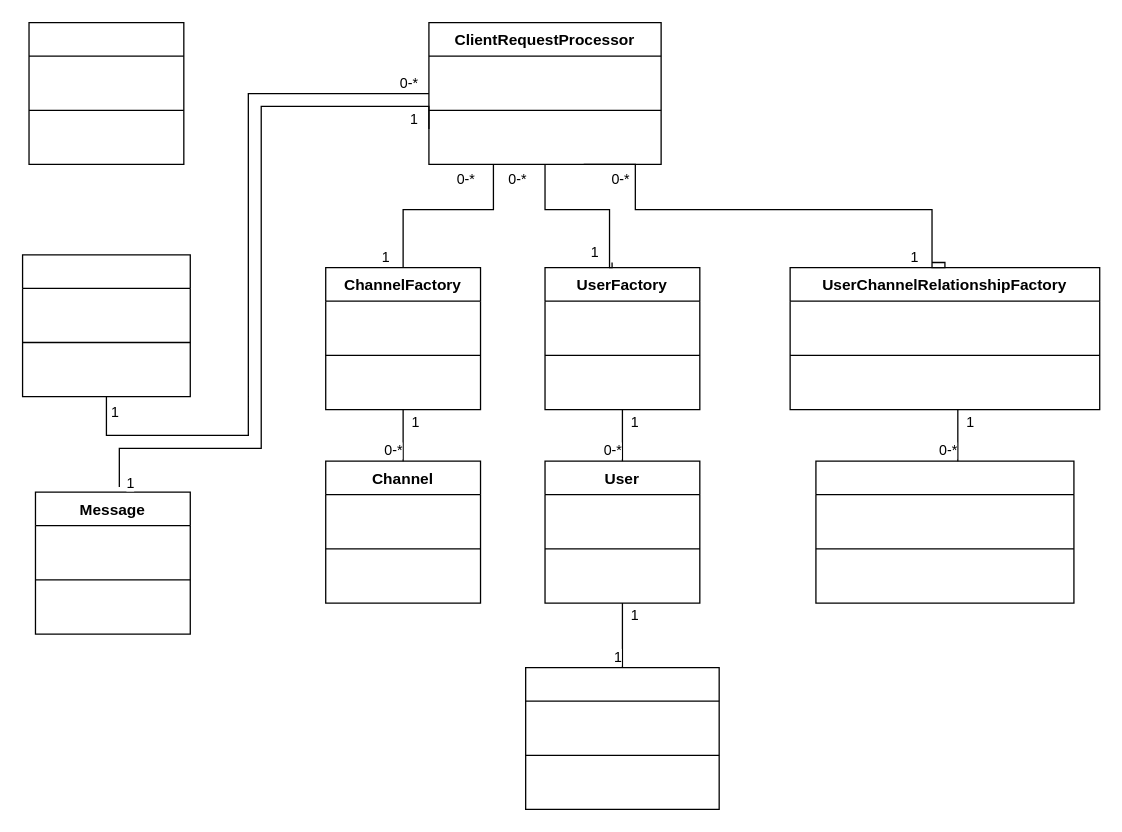
Image size: 1122x832. Some labels were removed from this diagram. The centre of each missing label's shape, as x and y in pixels:
Arguments: [106,92]
FiniteStateMachine: [621,737]
TCPProtocolHandler: [105,325]
UserChannelRelationship: [944,531]
